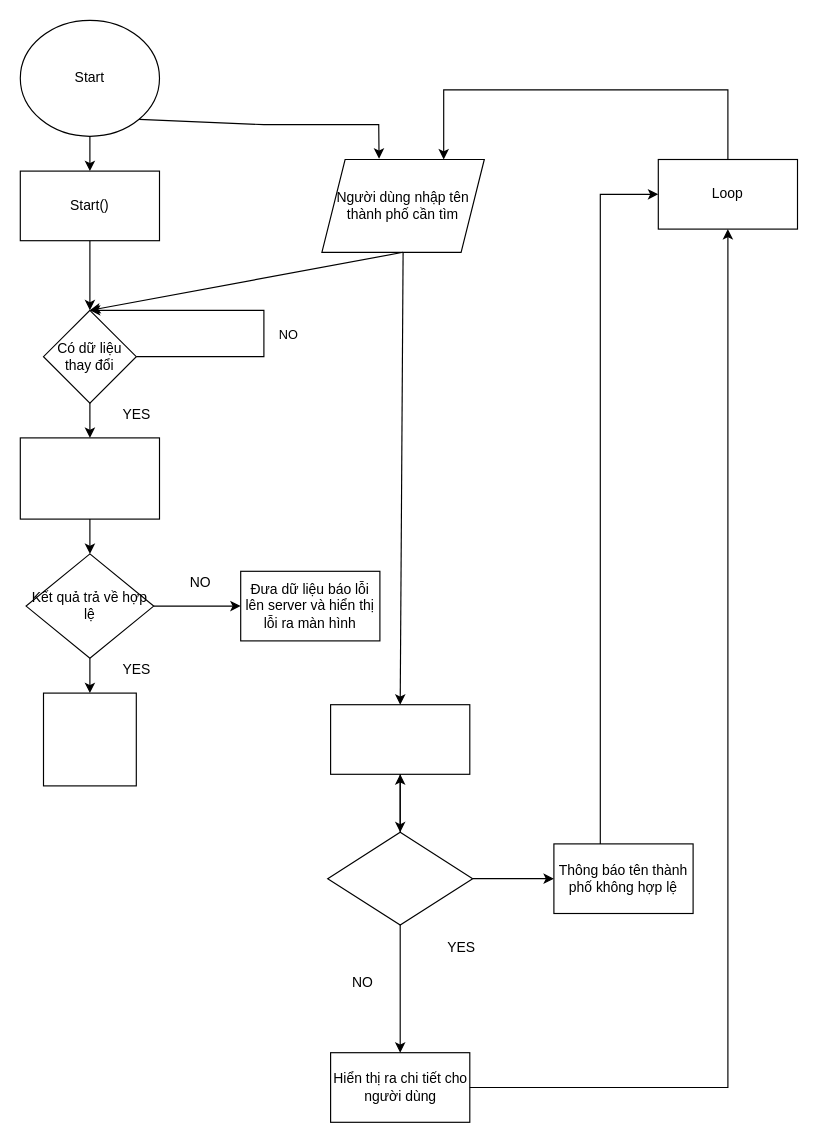
Image size: 818x1143. Some labels were removed from this diagram. The box of each missing label's shape, as (x1, y1, x2, y2) in pixels:
Gọi API từ Openweathermap: (19, 437, 160, 519)
Gọi API từ server: (329, 704, 470, 774)
Kiểm tra dữ liệu lỗi: (327, 831, 473, 925)
Đưa dữ liệu thời tiết lên server (Firebase): (42, 692, 136, 786)
